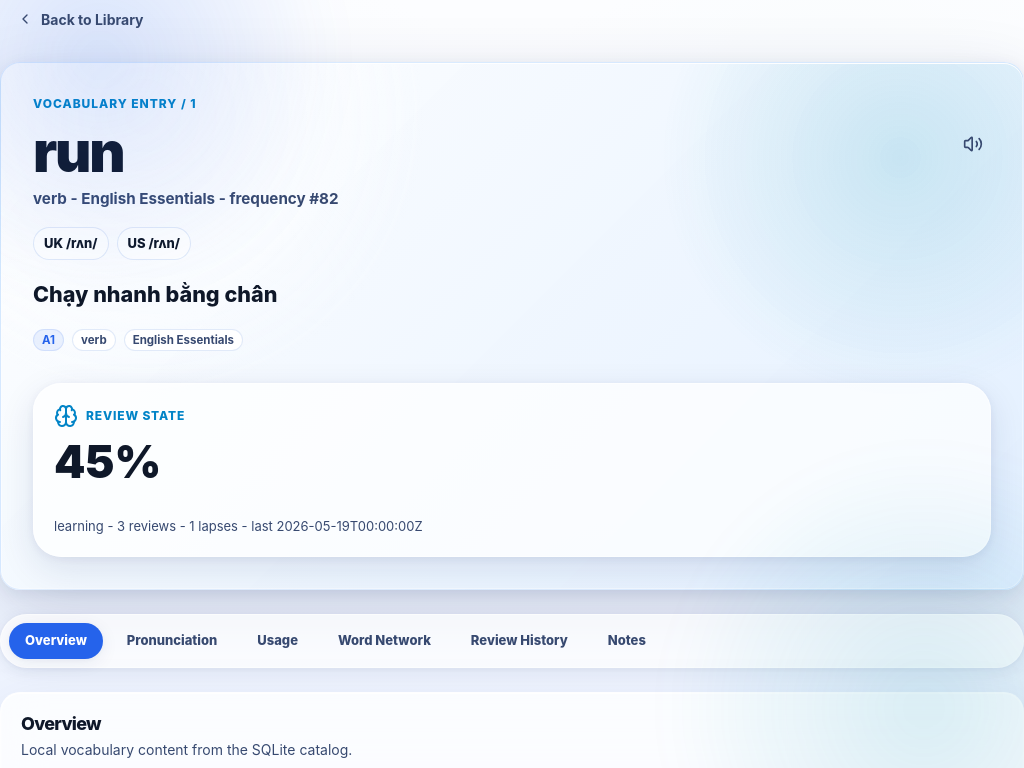
WordDetailPage › renders usage examples, relations, and review history
expect the heading "run" is shown: met, box 33,118 -> 123,186
Step 1. Click the tab "Usage" → (278, 641), box 241,623 -> 314,659
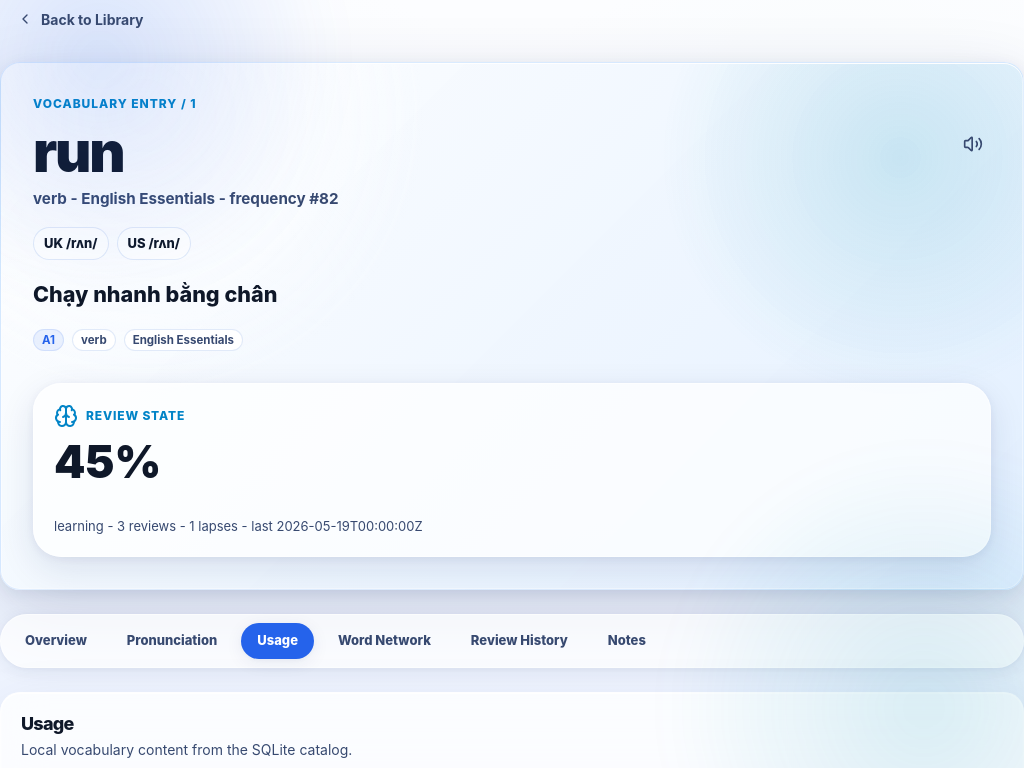
Step 2. Click the tab "Word Network" → (384, 641), box 322,623 -> 447,659
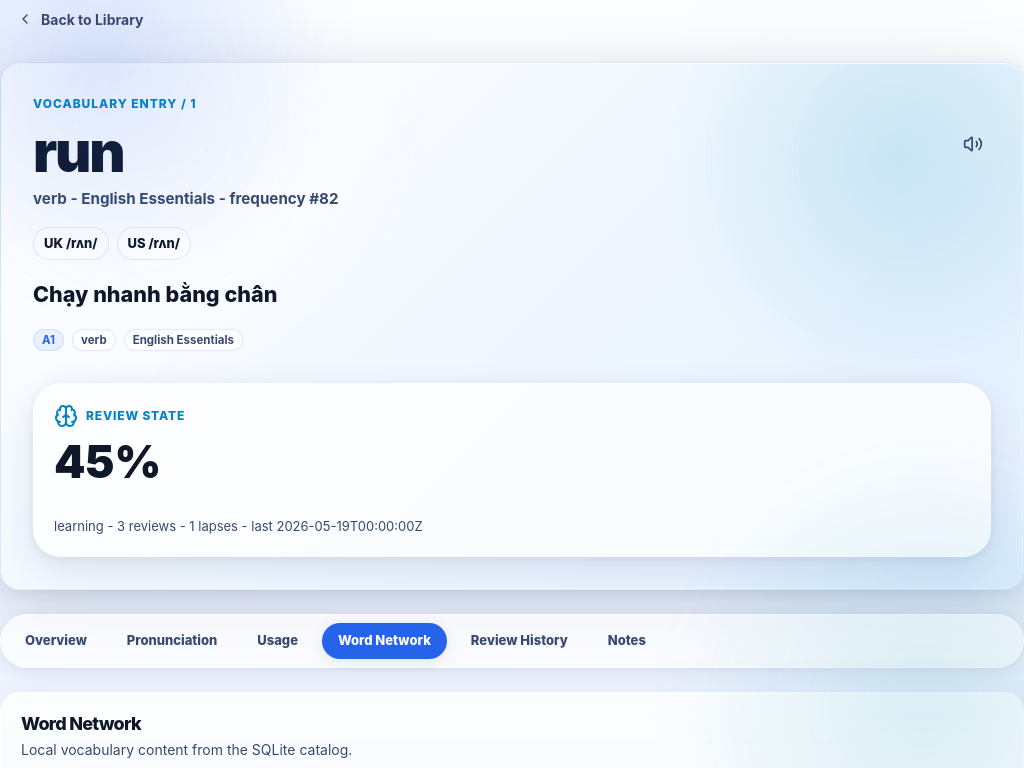
Step 3. Click the tab "Review History" → (519, 641), box 455,623 -> 584,659
(page scrolled)
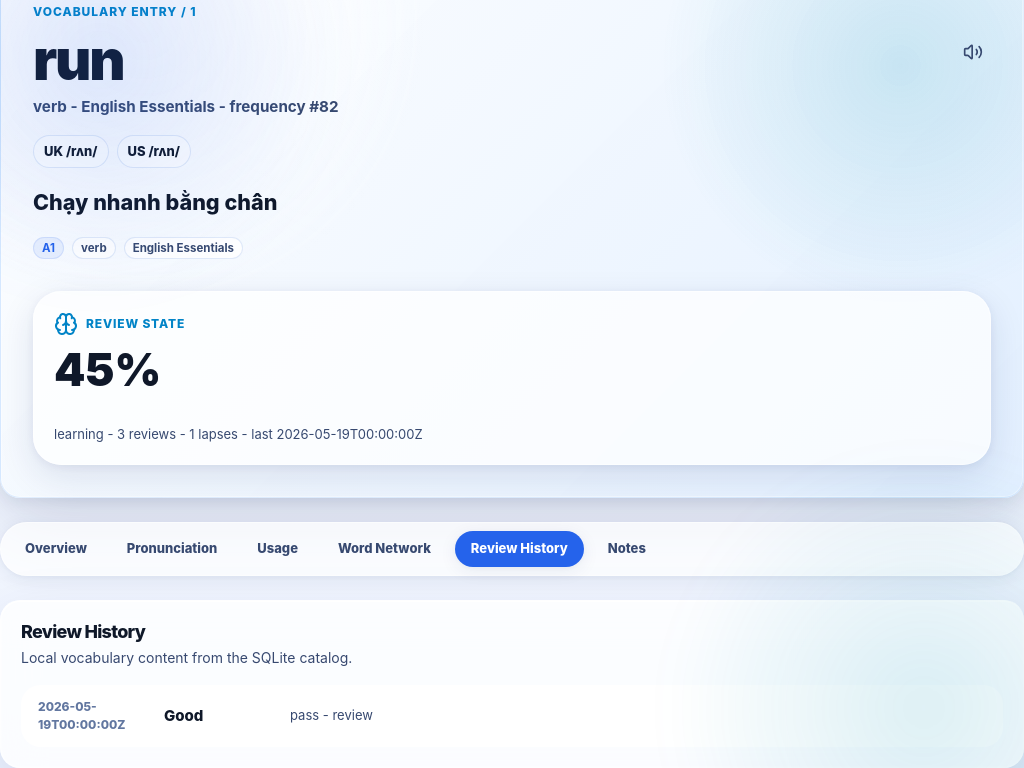
expect the text "Good" is shown: met, box 164,706 -> 203,725
expect the text "pass - review" is shown: met, box 290,707 -> 373,723
